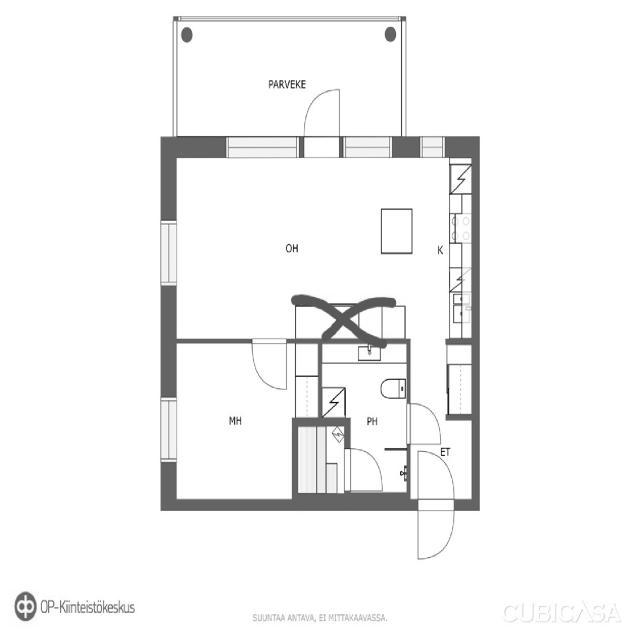door: (411, 443, 459, 567), (298, 83, 343, 159), (248, 334, 290, 396), (401, 396, 444, 449), (343, 442, 384, 490)
window: (219, 128, 307, 162), (156, 210, 182, 299), (338, 129, 399, 163), (157, 387, 180, 472), (416, 132, 446, 160)
zone: (169, 155, 476, 338), (172, 340, 302, 506), (316, 343, 411, 439), (294, 422, 350, 499), (444, 338, 475, 418)
